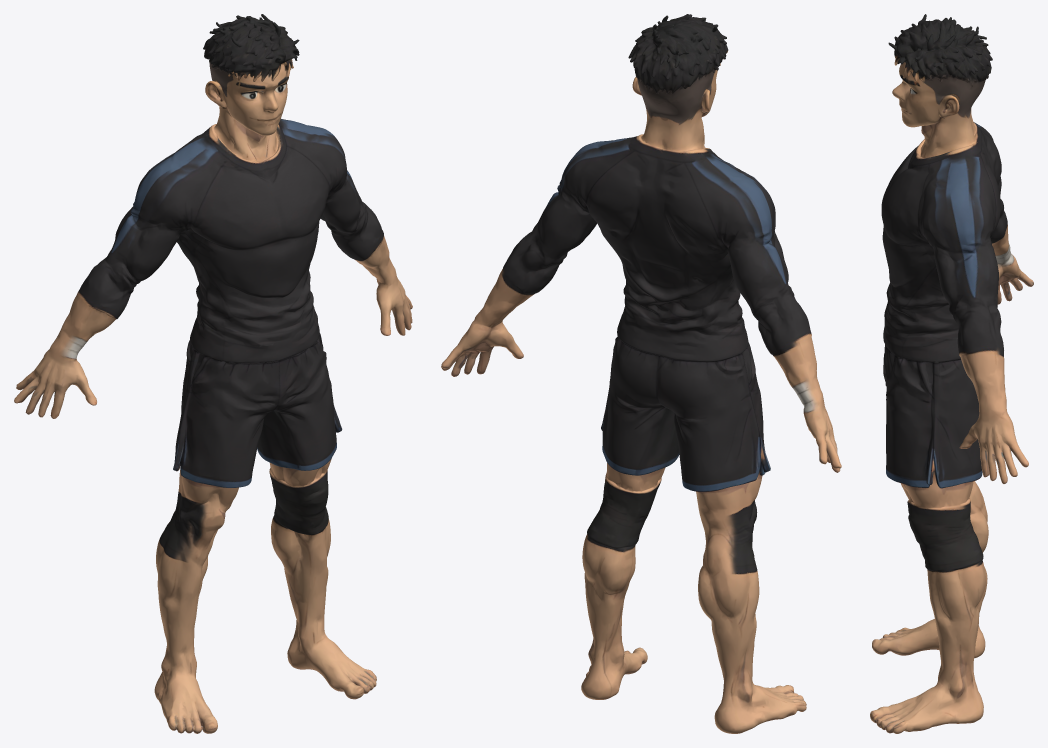
Rendered from gojun_front.glb.
The picture shows the model from 3 angles, left to right: view 1: azimuth 30°, elevation 25°; view 2: azimuth 150°, elevation 25°; view 3: azimuth 270°, elevation 25°; orthographic projection. The views are drawn at different scales.
Parts seen in each view (by area): view 1: tripo_node_7dae6b02-378a-4055-93b0-fb2a73cdd626; view 2: tripo_node_7dae6b02-378a-4055-93b0-fb2a73cdd626; view 3: tripo_node_7dae6b02-378a-4055-93b0-fb2a73cdd626.
Part boxes in pixels (x1,y1,x2,y2): tripo_node_7dae6b02-378a-4055-93b0-fb2a73cdd626: [14, 14, 412, 733]; tripo_node_7dae6b02-378a-4055-93b0-fb2a73cdd626: [441, 14, 841, 733]; tripo_node_7dae6b02-378a-4055-93b0-fb2a73cdd626: [870, 14, 1033, 733].
Size of the model in its own units: 1.08 by 1.76 by 0.3924.
1 material, 1 textured.
